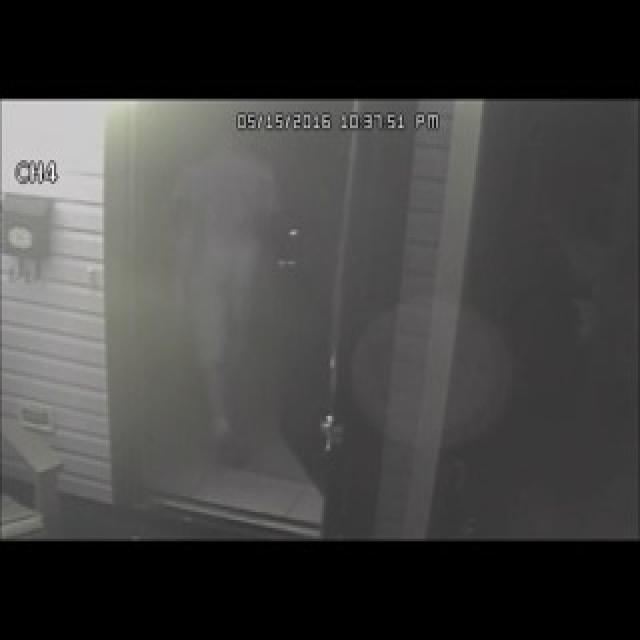thief: (192, 126, 269, 264)
